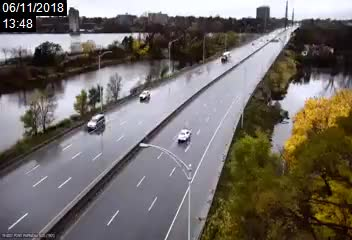personal_car: (87, 113, 106, 132), (176, 126, 192, 143), (138, 89, 153, 104)
truck: (218, 51, 232, 64)
